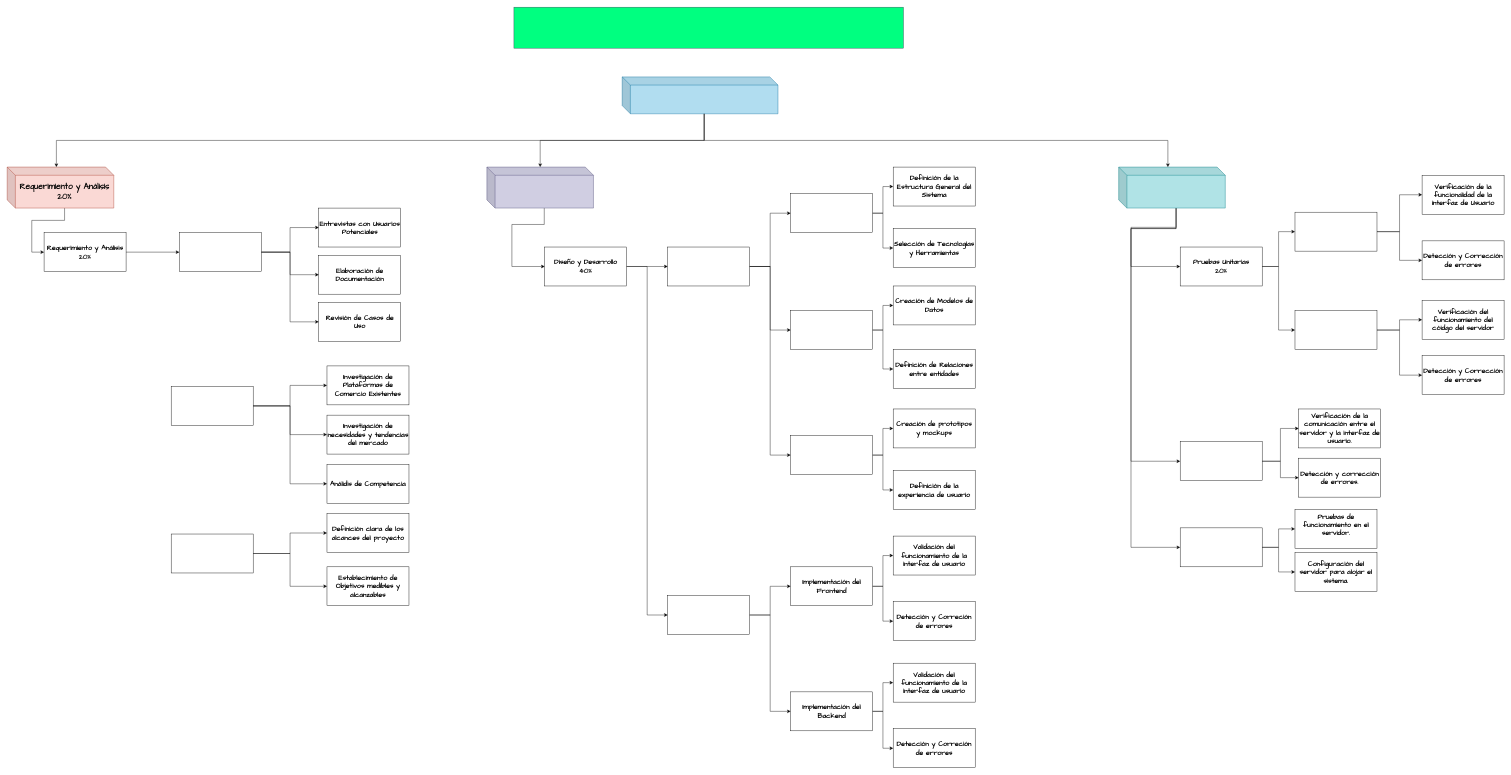
Image size: 1511x775. Some labels were removed from this diagram. The shapes that lost their labels are listed below. From the top down, each one's centre as x and y in pixels, then its label:
At [708,27]: "EDT - TEORÍA DE SISTEMAS 2".
At [700,95]: "COMERCIO DIGITAL - TESORO MAYA".
At [539,187]: "Diseño del Sistema 40%".
At [1171,187]: "Pruebas y Despliegue 40%".
At [831,213]: "Diseño de la Arquitectura del Sistema".
At [1336,231]: "Pruebas del Frontend".
At [220,252]: "Recopilación de Rquisitos".
At [708,266]: "Diseño del Sistema 15%".
At [831,330]: "Diseño de la base de Datos".
At [1336,330]: "Pruebas del Backend".
At [212,405]: "Análisis del Mercado y Competencia".
At [831,455]: "Diseño de la Interfaz de Usuario".
At [1221,461]: "Pruebas de Integración 10%".
At [212,553]: "Definición de Alcances y Objetivso".
At [1221,547]: "Implementación en el servidor XAMPP 10%".
At [708,614]: "Diseño del Sistema 25%".
